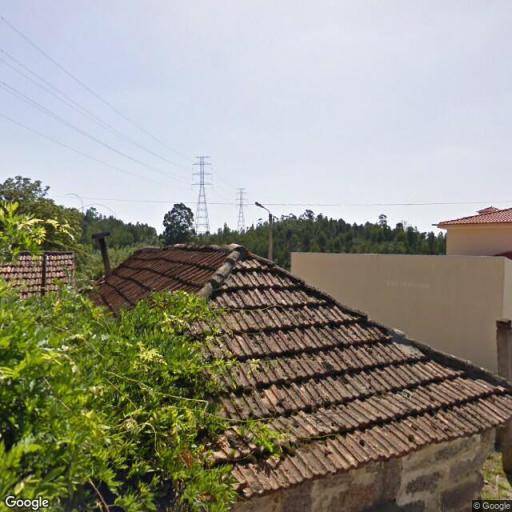ss_3: (192, 152, 214, 234), (233, 186, 249, 230)
